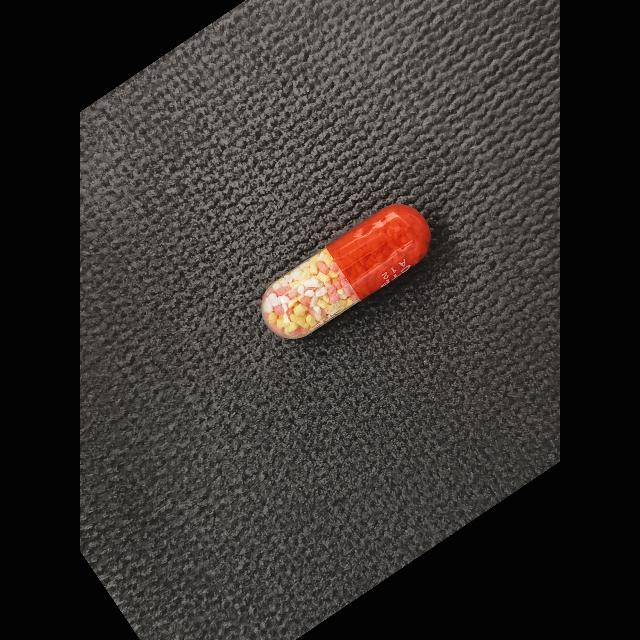Intact Capsule: (262, 205, 431, 339)
